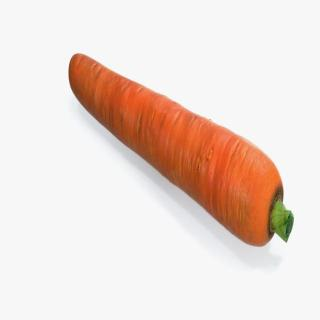carrot: (67, 52, 295, 256)
